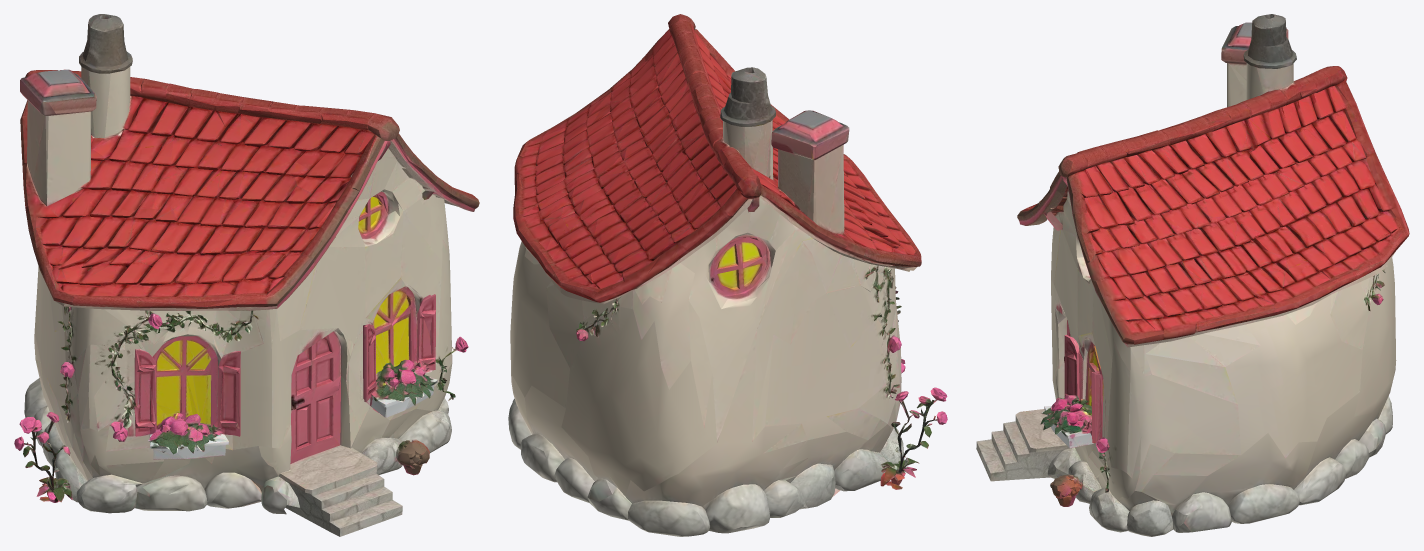
The model's file is cottage.glb.
The picture shows the model from 3 angles, left to right: view 1: azimuth 30°, elevation 25°; view 2: azimuth 150°, elevation 25°; view 3: azimuth 270°, elevation 25°; orthographic projection. The views are drawn at different scales.
Size of the model in its own units: 1.88 by 1.73 by 1.71.
1 material, 1 textured.
